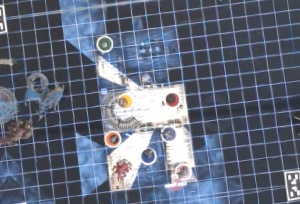blue: (137, 145, 158, 168)
green: (93, 33, 115, 54)
orange: (101, 128, 122, 149)
pink: (169, 157, 195, 182)
red: (160, 90, 181, 108)
violet: (157, 122, 180, 145)
yellow: (115, 89, 136, 111)
